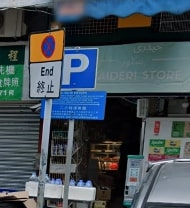End Of No Stopping: (26, 29, 65, 98)
Parking: (63, 49, 102, 93)
